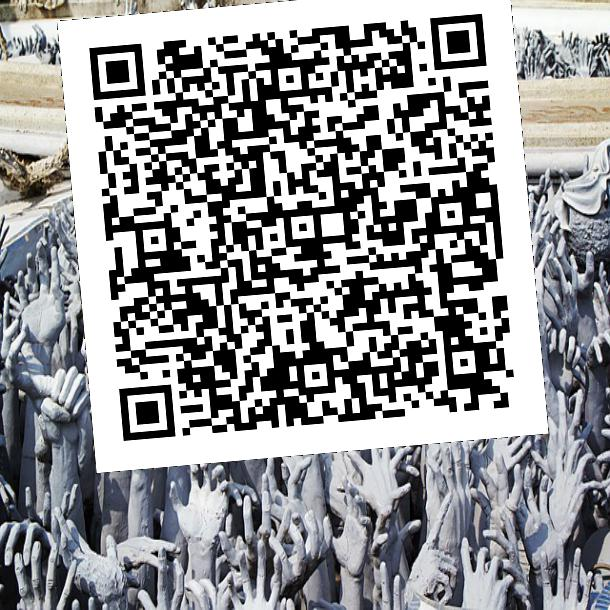qr_code: (57, 0, 548, 482)
